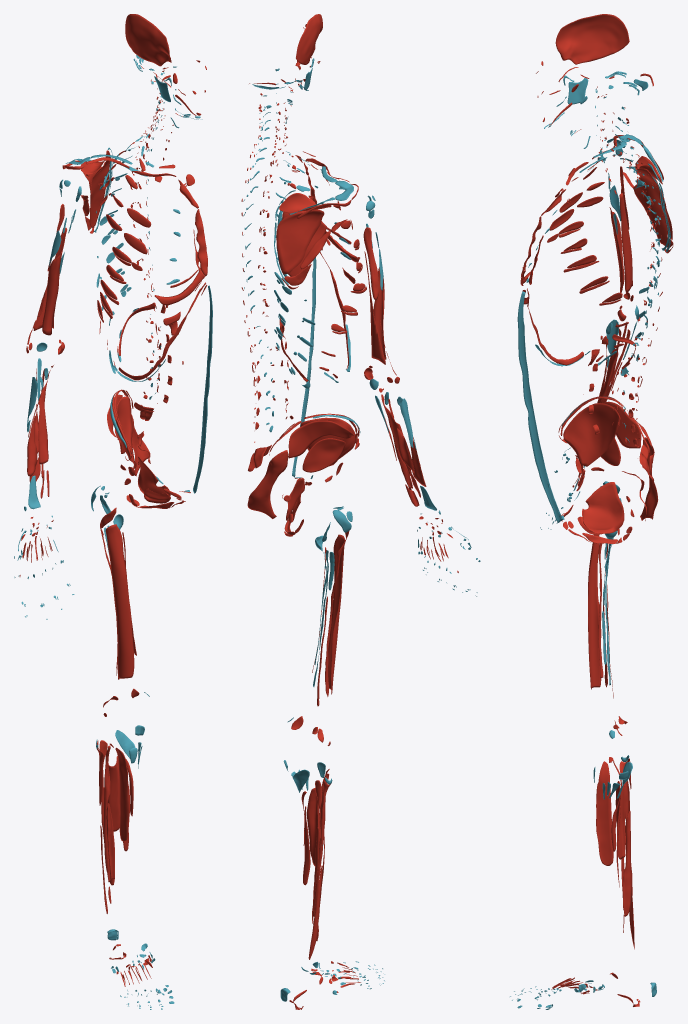
The model's file is attachments.glb.
3 renders of one model, left to right at view 1: azimuth 30°, elevation 25°; view 2: azimuth 150°, elevation 25°; view 3: azimuth 270°, elevation 25°, orthographic. The views are drawn at different scales.
Visible parts, largest first — view 1: Vastus intermedius origin and insertion.r, Temporalis muscle origin and insertion.r, Pectoralis major origin and insertion.r, External abdominal oblique origin and insertion.r, Serratus anterior origins and insertion.r, Tibialis anterior origin and insertion.r, Brachialis origin and insertion.r, Iliacus origin and insertion.r, Diaphragm origin and insertion.r, Subscapularis origin and insertion.r, Tibialis posterior origin and insertion.r, Triceps brachii origin and insertion.r (+7 smaller); view 2: Infraspinatus muscle origin and insertion.r, Gluteus medius origin and insertion.r, Gluteus maximus origin and insertion.r, Vastus intermedius origin and insertion.r, Triceps brachii origin and insertion.r, Gluteus minimus origin and insertion.r, External abdominal oblique origin and insertion.r, Temporalis muscle origin and insertion.r, Tibialis posterior origin and insertion.r, Iliacus origin and insertion.r, Brachialis origin and insertion.r, Supraspinatus muscle origin and insertion.r (+1 smaller); view 3: Temporalis muscle origin and insertion.r, Iliacus origin and insertion.r, Internal abdominal oblique muscle origin and insertion.r, Obturator internus origin and insertion.r, Vastus intermedius origin and insertion.r, Tibialis anterior origin and insertion.r, Serratus anterior origins and insertion.r, Subscapularis origin and insertion.r, Triceps brachii origin and insertion.r, Gluteus medius origin and insertion.r, Flexor hallucis longus origin and insertion.r, Tibialis posterior origin and insertion.r (+9 smaller).
Boxes of the visible parts, x1,y1,x2,y2 form: Vastus intermedius origin and insertion.r: (105,524,137,751); Temporalis muscle origin and insertion.r: (125,14,171,86); Pectoralis major origin and insertion.r: (62,171,207,325); External abdominal oblique origin and insertion.r: (97,254,212,491); Serratus anterior origins and insertion.r: (93,157,145,318); Tibialis anterior origin and insertion.r: (115,747,155,962); Brachialis origin and insertion.r: (42,251,62,379); Iliacus origin and insertion.r: (113,396,135,529); Diaphragm origin and insertion.r: (113,282,205,380); Subscapularis origin and insertion.r: (75,154,110,227); Tibialis posterior origin and insertion.r: (107,756,147,965); Triceps brachii origin and insertion.r: (33,195,88,351); Infraspinatus muscle origin and insertion.r: (276,200,375,274); Gluteus medius origin and insertion.r: (288,420,353,532); Gluteus maximus origin and insertion.r: (247,450,334,590); Vastus intermedius origin and insertion.r: (318,534,345,777); Triceps brachii origin and insertion.r: (331,219,385,389); Gluteus minimus origin and insertion.r: (302,438,352,521); External abdominal oblique origin and insertion.r: (292,244,366,476); Temporalis muscle origin and insertion.r: (296,14,322,67); Tibialis posterior origin and insertion.r: (301,788,332,976); Iliacus origin and insertion.r: (300,417,355,551); Brachialis origin and insertion.r: (373,267,388,404); Supraspinatus muscle origin and insertion.r: (279,193,375,213); Temporalis muscle origin and insertion.r: (555,14,629,85); Iliacus origin and insertion.r: (563,403,620,538); Internal abdominal oblique muscle origin and insertion.r: (517,291,628,522); Obturator internus origin and insertion.r: (582,482,624,533); Vastus intermedius origin and insertion.r: (588,534,601,782); Tibialis anterior origin and insertion.r: (574,761,613,992); Serratus anterior origins and insertion.r: (558,161,669,302); Subscapularis origin and insertion.r: (599,147,667,244); Triceps brachii origin and insertion.r: (619,166,638,316); Gluteus medius origin and insertion.r: (603,401,641,493); Flexor hallucis longus origin and insertion.r: (517,811,631,1008); Tibialis posterior origin and insertion.r: (588,781,626,992).
Size of the model in its own units: 0.3316 by 1.66 by 0.2469.
